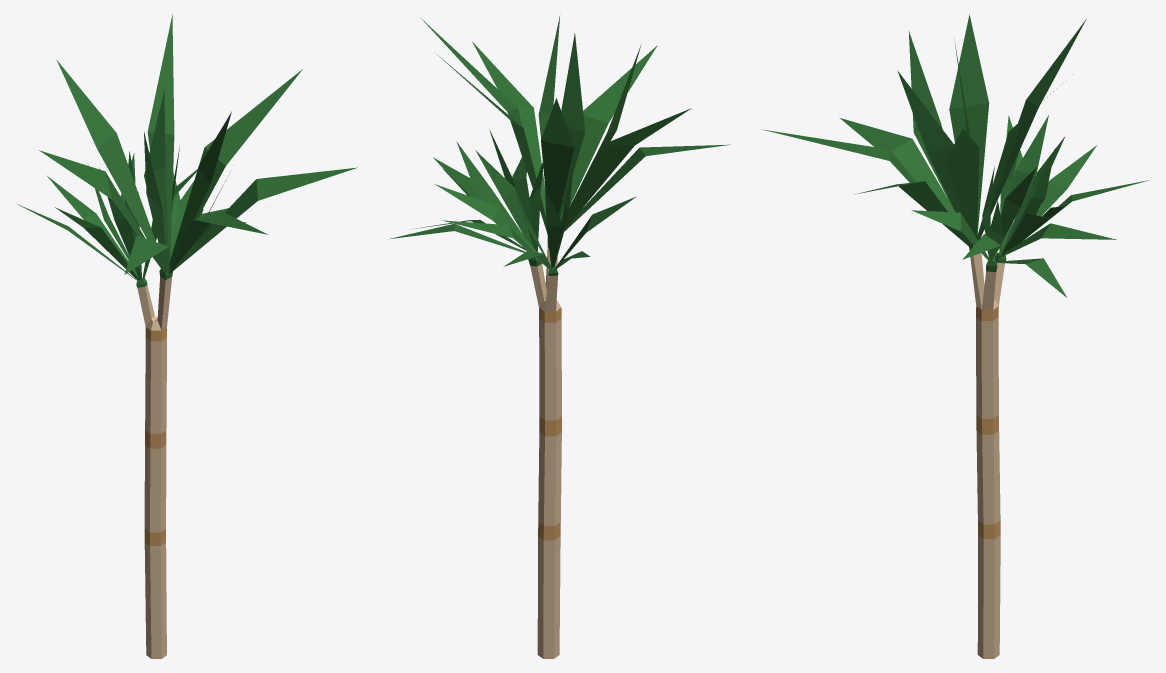
File: furniture_plant-dracaena-marginata.fbx
3 renders of one model, left to right at view 1: azimuth 30°, elevation 25°; view 2: azimuth 150°, elevation 25°; view 3: azimuth 270°, elevation 25°, orthographic. The views are drawn at different scales.
Parts seen in each view (by area): view 1: furniture_plant_dracaena_marginata; view 2: furniture_plant_dracaena_marginata; view 3: furniture_plant_dracaena_marginata.
Boxes of the visible parts, x1,y1,x2,y2 form: furniture_plant_dracaena_marginata: (17, 14, 357, 658); furniture_plant_dracaena_marginata: (388, 14, 730, 658); furniture_plant_dracaena_marginata: (761, 14, 1149, 658).
Bounding box in the file's own units: 93.77 × 200 × 113.
